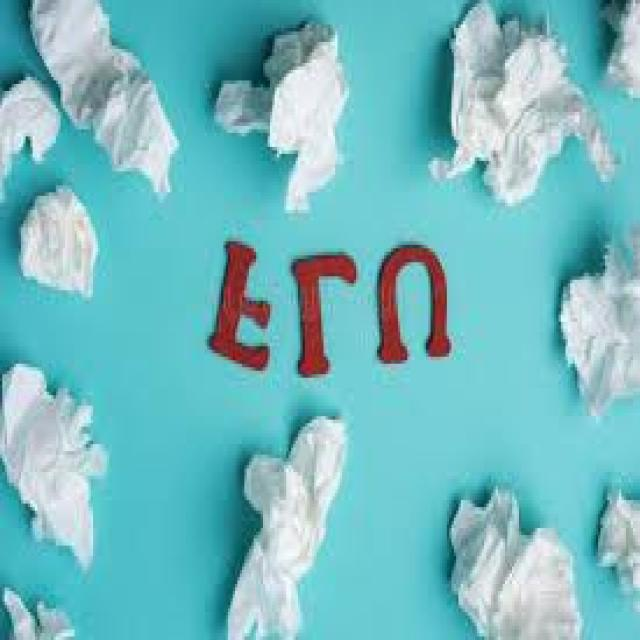tissue: (432, 4, 614, 206), (31, 1, 176, 193), (229, 417, 345, 640), (215, 25, 347, 212), (0, 365, 107, 570), (451, 489, 577, 640), (563, 235, 640, 416), (19, 188, 97, 298), (596, 493, 640, 612)
